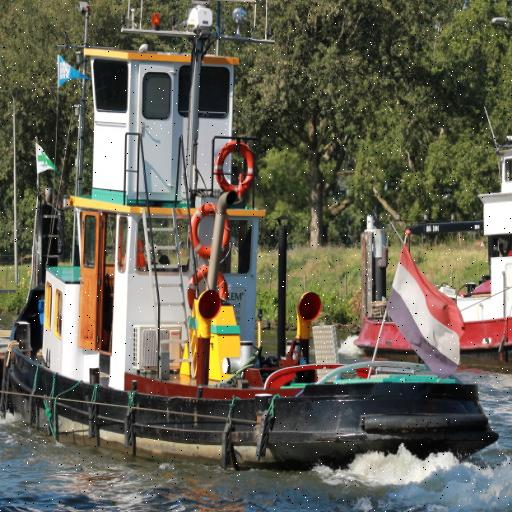tugboat: (1, 1, 504, 482)
